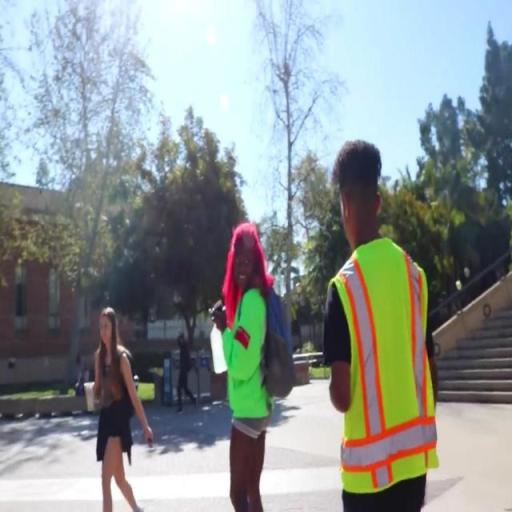vest: (316, 234, 446, 494)
